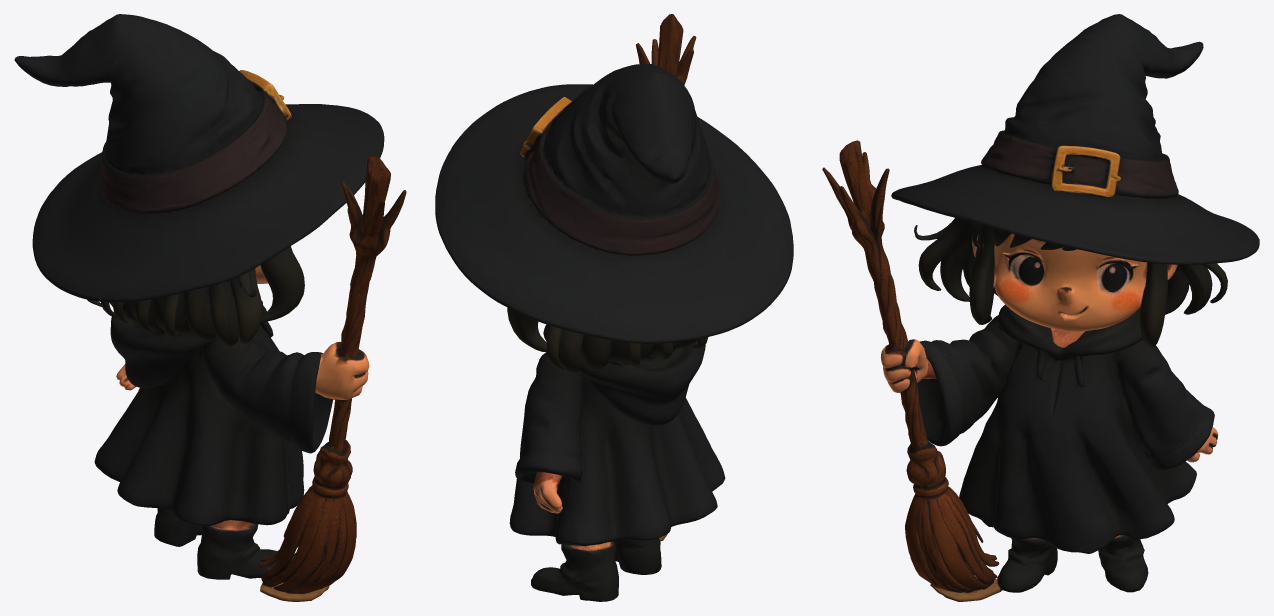
The picture shows the model from 3 angles, left to right: view 1: azimuth 30°, elevation 25°; view 2: azimuth 150°, elevation 25°; view 3: azimuth 270°, elevation 25°; orthographic projection. The views are drawn at different scales.
Parts seen in each view (by area): view 1: tripo_node_d9523b5f-5590-4abb-8e91-80003b094482; view 2: tripo_node_d9523b5f-5590-4abb-8e91-80003b094482; view 3: tripo_node_d9523b5f-5590-4abb-8e91-80003b094482.
Boxes of the visible parts, box(x1,y1,x2,y2) form: tripo_node_d9523b5f-5590-4abb-8e91-80003b094482: box(14, 14, 406, 601); tripo_node_d9523b5f-5590-4abb-8e91-80003b094482: box(435, 14, 793, 601); tripo_node_d9523b5f-5590-4abb-8e91-80003b094482: box(822, 14, 1259, 601).
Size of the model in its own units: 0.5852 by 1 by 0.7526.
1 material, 1 textured.
